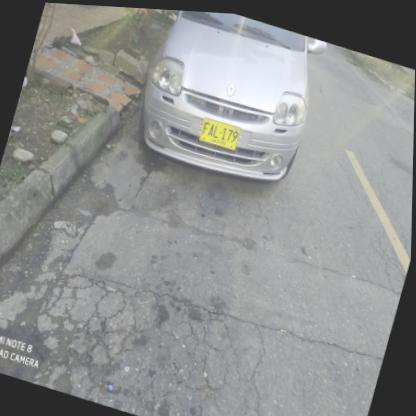placa: (197, 113, 244, 152)
